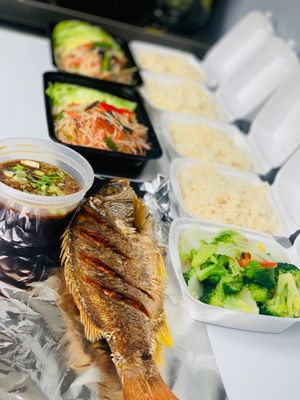curry: (262, 272, 300, 318)
sushi: (168, 217, 300, 336), (42, 72, 163, 179), (0, 138, 95, 245)
